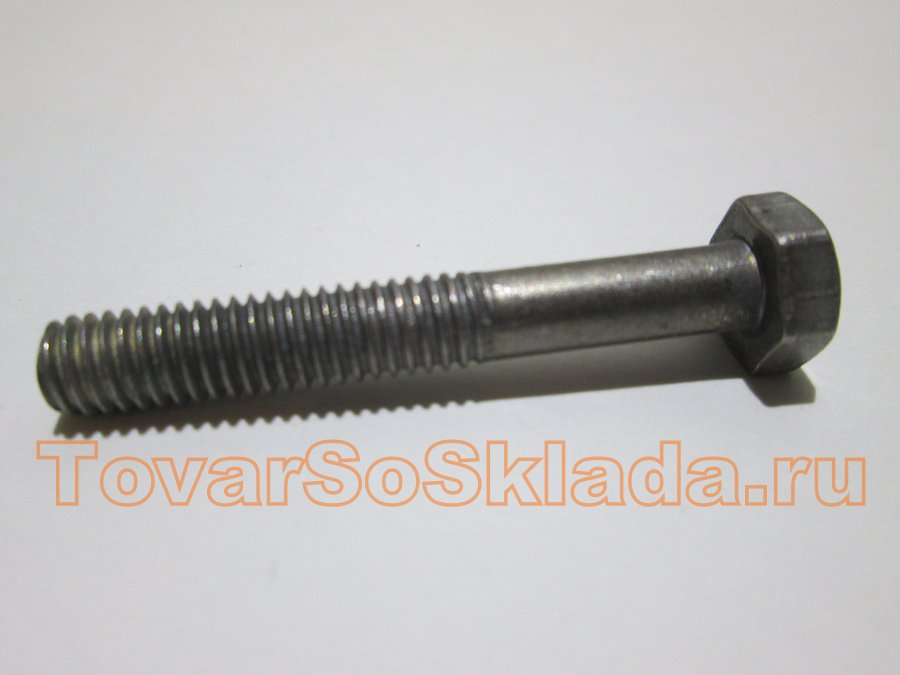screw: (37, 194, 840, 414)
